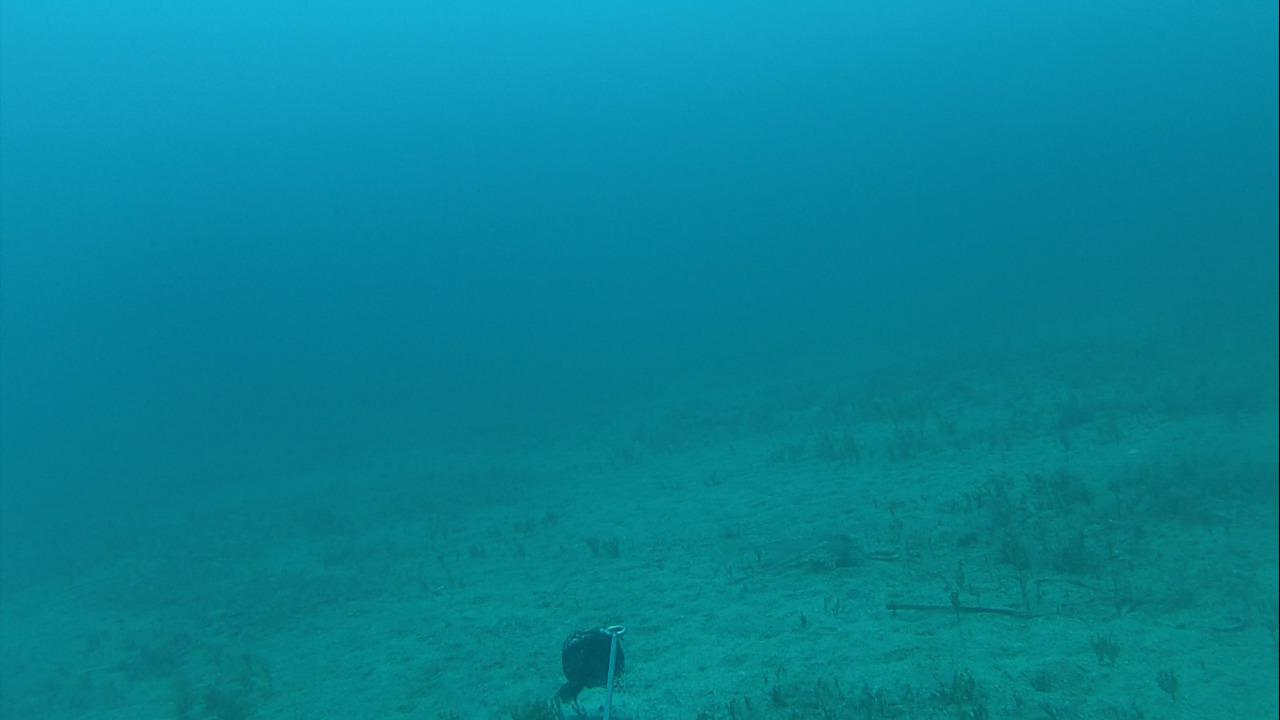dactylopterus: (735, 519, 872, 585)
